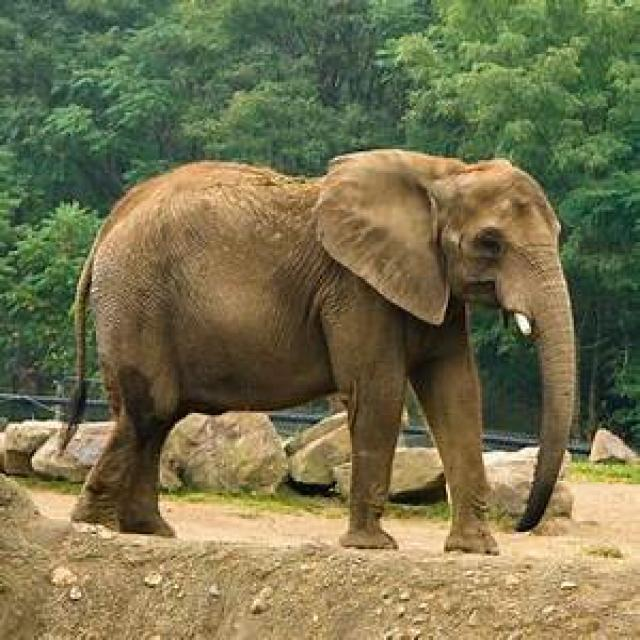elephant: (73, 149, 580, 558)
